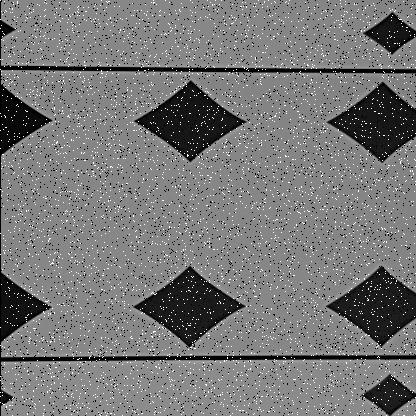6d: (357, 0, 415, 74), (356, 361, 416, 415)
